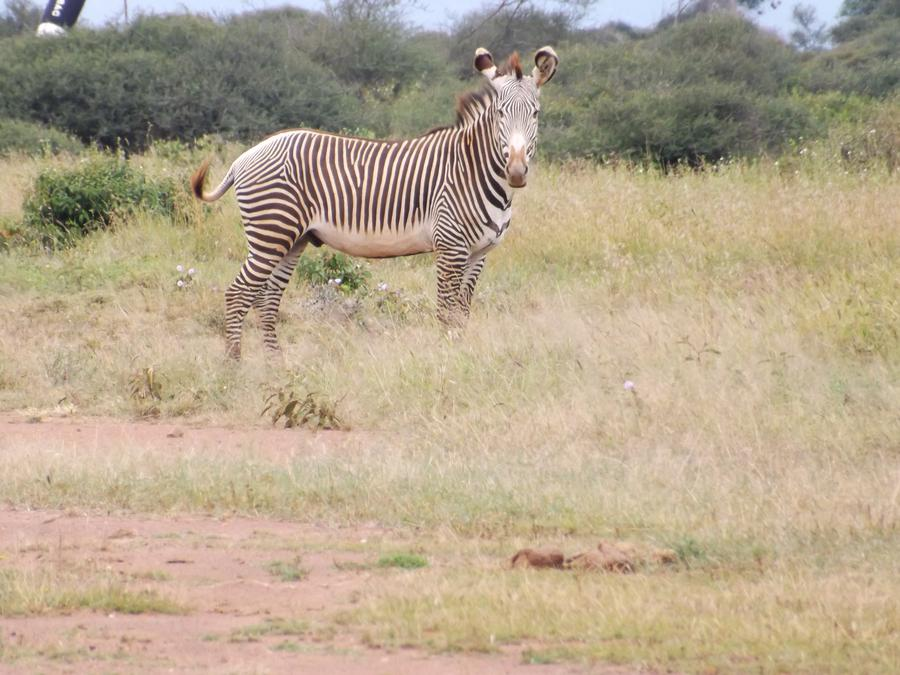zebra_grevys: (237, 128, 478, 263)
